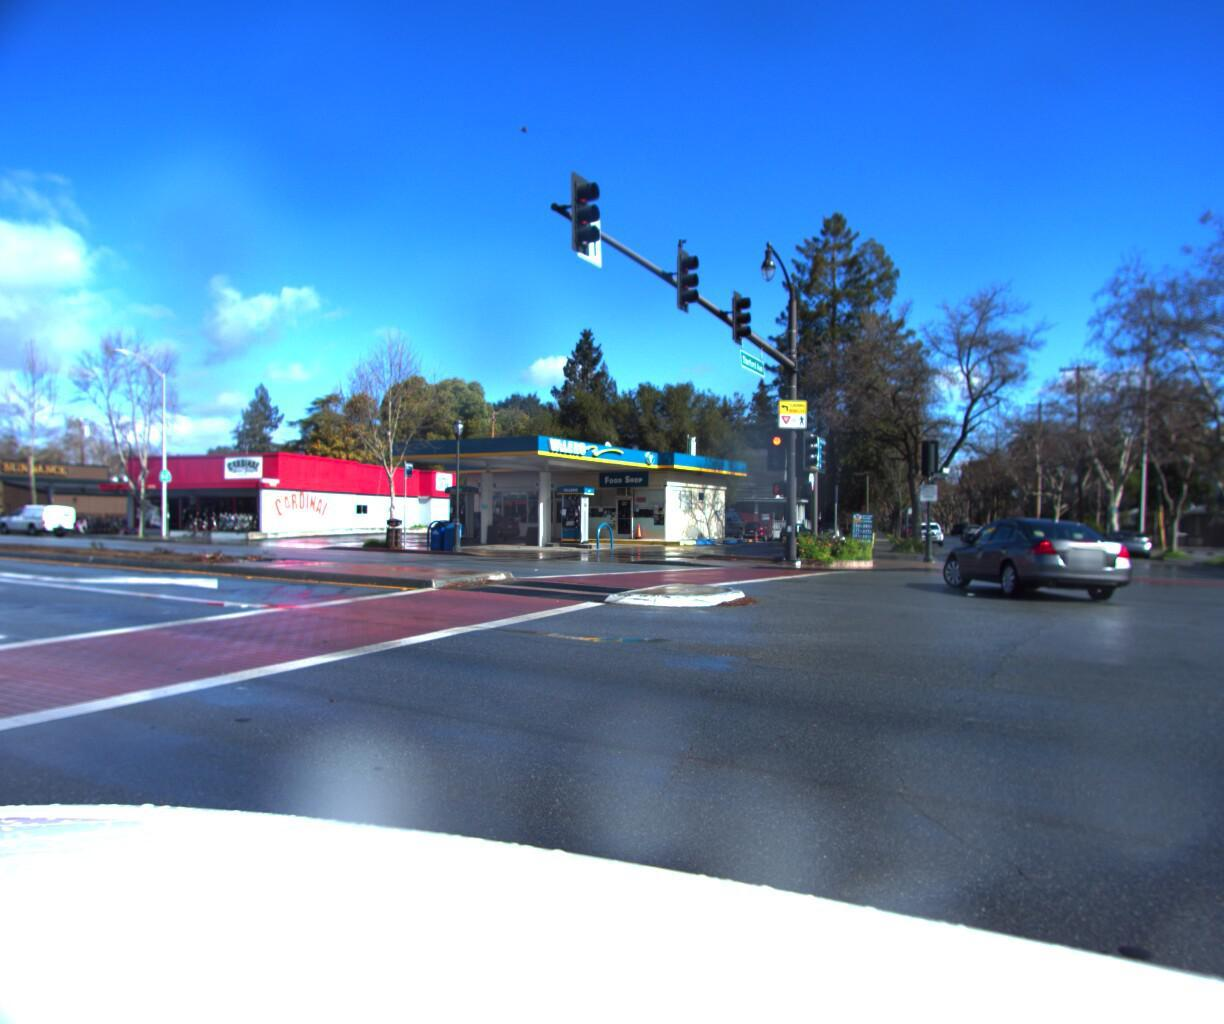car: (937, 516, 1138, 603), (419, 504, 524, 549), (0, 508, 83, 541), (1091, 521, 1155, 560), (911, 519, 945, 545), (816, 517, 848, 541)
